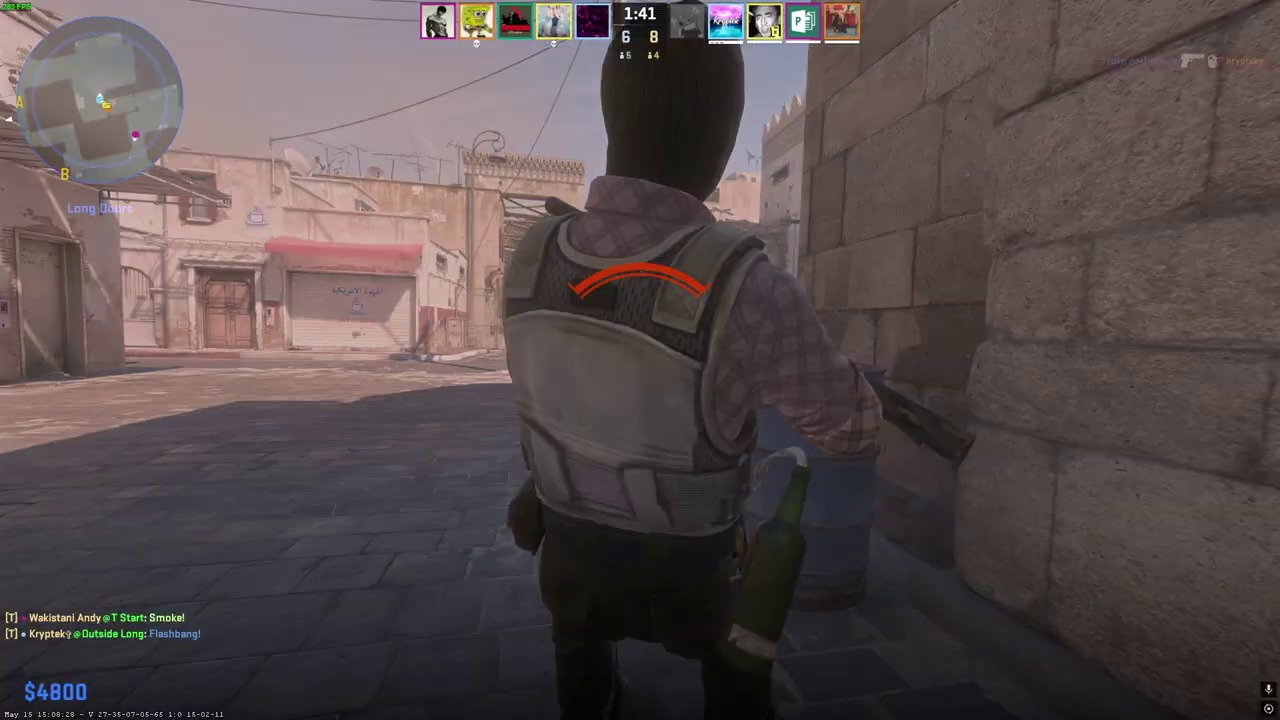Terrorist: (501, 14, 878, 720)
